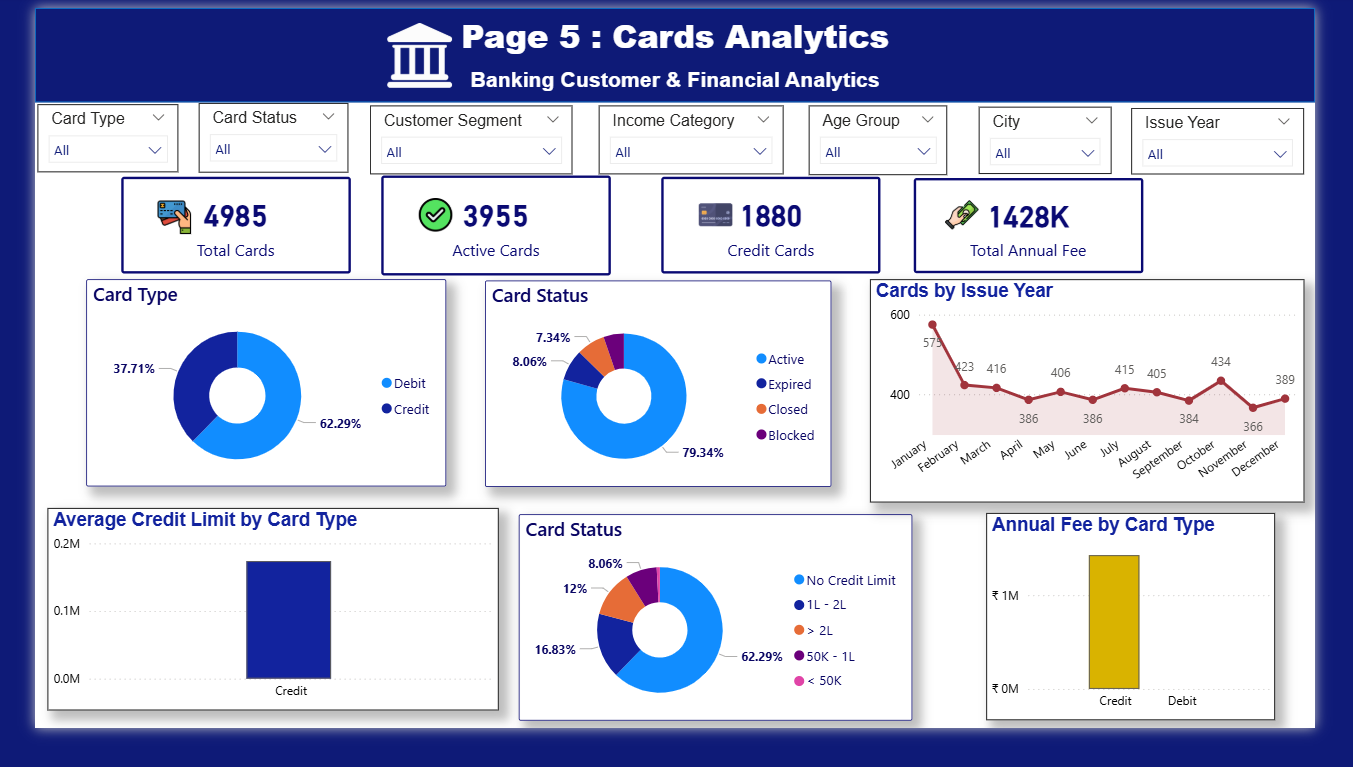

What the dashboard file says about the page in this screenshot:
{"tool":"powerbi","page":{"name":"Cards Analytics","canvas":[1280,720],"ordinal":4},"visuals":[{"type":"shape","box":[0,0,1280,94.4],"z":0},{"type":"textbox","box":[0,0,1280.3,55],"z":1000},{"type":"textbox","box":[0,55,1280.3,40.4],"z":2000},{"type":"image","box":[336.6,15.5,97.2,64.8],"z":3000},{"type":"slicer","title":"Month","fields":{"Values":["customers_cleaned.city"]},"box":[943.4,98.9,132.7,67.6],"z":4000},{"type":"slicer","title":"Month","fields":{"Values":["cards_cleaned.card_type"]},"box":[2.4,95.8,140.8,67.6],"z":5000},{"type":"slicer","title":"Month","fields":{"Values":["customers_cleaned.age_group"]},"box":[773.3,97.7,138.7,70],"z":6000},{"type":"slicer","title":"Month","fields":{"Values":["cards_cleaned.card_status"]},"box":[164.1,95.3,149.6,70],"z":7000},{"type":"slicer","title":"Month","fields":{"Values":["customers_cleaned.customer_segment"]},"box":[335.4,97.7,202.7,68.8],"z":8000},{"type":"card","fields":{"Values":["cards_cleaned.Total Cards"]},"box":[85.7,168.9,229.2,96.5],"z":9000},{"type":"card","fields":{"Values":["cards_cleaned.Total Annual Fee"]},"box":[878.3,170.1,229.2,95.3],"z":10000},{"type":"card","fields":{"Values":["cards_cleaned.Credit Cards"]},"box":[626.1,168.9,219.6,96.5],"z":11000},{"type":"donutChart","title":"Card Type","fields":{"Category":["cards_cleaned.card_type"],"Y":["CountNonNull(cards_cleaned.card_id)"]},"box":[51.2,270.7,359.8,207.3],"z":12000},{"type":"donutChart","title":"Card Status","fields":{"Category":["cards_cleaned.card_status"],"Y":["CountNonNull(cards_cleaned.card_id)"]},"box":[450,272,346.3,206.1],"z":13000},{"type":"slicer","title":"Month","fields":{"Values":["customers_cleaned.income_category"]},"box":[563.4,97.7,184.6,68.8],"z":14000},{"type":"slicer","title":"Month","fields":{"Values":["cards_cleaned.issue_date.Variation.Date Hierarchy.Year"]},"box":[1096.7,100.1,172.5,66.4],"z":15000},{"type":"lineChart","title":"Cards by Issue Year","fields":{"Y":["CountNonNull(cards_cleaned.card_id)"],"Category":["cards_cleaned.issue_date.Variation.Date Hierarchy.Month"]},"box":[834.9,271.4,434.3,223.2],"z":16000},{"type":"card","fields":{"Values":["cards_cleaned.Active Cards"]},"box":[346.5,167.6,229.6,100],"z":17000},{"type":"clusteredColumnChart","title":"Annual Fee by Card Type","fields":{"Category":["cards_cleaned.card_type"],"Y":["Sum(cards_cleaned.annual_fee)"]},"box":[951.2,504.9,289,207.3],"z":18000},{"type":"donutChart","title":"Card Status","fields":{"Category":["cards_cleaned.credit_limit_category"],"Y":["CountNonNull(cards_cleaned.card_id)"]},"box":[483.7,506.1,393.9,206.1],"z":19000},{"type":"clusteredColumnChart","title":"Average Credit Limit by Card Type","fields":{"Category":["cards_cleaned.card_type"],"Y":["Avg(cards_cleaned.credit_limit)"]},"box":[12.2,500,451,202],"z":20000},{"type":"image","box":[123.1,193,33.8,33.8],"z":21000},{"type":"image","box":[383.6,190.6,33.8,33.8],"z":22000},{"type":"image","box":[663.5,190.6,33.8,33.8],"z":23000},{"type":"image","box":[909.7,190.6,33.8,33.8],"z":24000}]}

Visuals, with their boxes in screenshot pixels (x1, y1, x2, y2), scaled from the page's 1280x720 canvas onto the 1353x767 screenshot:
shape: x1=0 y1=0 x2=1352 y2=101
textbox: x1=0 y1=0 x2=1352 y2=59
textbox: x1=0 y1=59 x2=1352 y2=102
image: x1=356 y1=17 x2=459 y2=86
"Month" slicer: x1=997 y1=105 x2=1137 y2=177
"Month" slicer: x1=3 y1=102 x2=151 y2=174
"Month" slicer: x1=817 y1=104 x2=964 y2=179
"Month" slicer: x1=173 y1=102 x2=332 y2=176
"Month" slicer: x1=355 y1=104 x2=569 y2=177
card - cards_cleaned.Total Cards: x1=91 y1=180 x2=333 y2=283
card - cards_cleaned.Total Annual Fee: x1=928 y1=181 x2=1171 y2=283
card - cards_cleaned.Credit Cards: x1=662 y1=180 x2=894 y2=283
"Card Type" donutChart: x1=54 y1=288 x2=434 y2=509
"Card Status" donutChart: x1=476 y1=290 x2=842 y2=509
"Month" slicer: x1=596 y1=104 x2=791 y2=177
"Month" slicer: x1=1159 y1=107 x2=1342 y2=177
"Cards by Issue Year" lineChart: x1=883 y1=289 x2=1342 y2=527
card - cards_cleaned.Active Cards: x1=366 y1=179 x2=609 y2=285
"Annual Fee by Card Type" clusteredColumnChart: x1=1005 y1=538 x2=1311 y2=759
"Card Status" donutChart: x1=511 y1=539 x2=928 y2=759
"Average Credit Limit by Card Type" clusteredColumnChart: x1=13 y1=533 x2=490 y2=748
image: x1=130 y1=206 x2=166 y2=242
image: x1=405 y1=203 x2=441 y2=239
image: x1=701 y1=203 x2=737 y2=239
image: x1=962 y1=203 x2=997 y2=239
